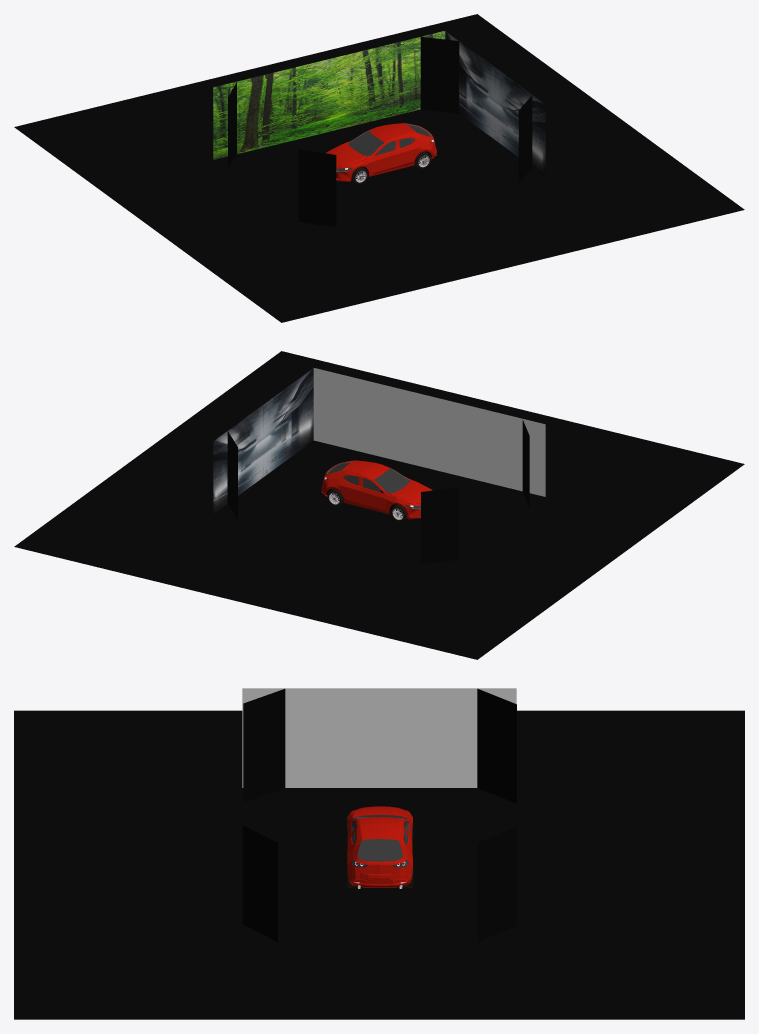
File: mazda3.glb
The picture shows the model from 3 angles, top to bottom: view 1: azimuth 30°, elevation 25°; view 2: azimuth 150°, elevation 25°; view 3: azimuth 270°, elevation 25°; orthographic projection. The views are drawn at different scales.
Visible parts, largest first — view 1: Ground, Side(R), Back, Car body, Sidepanel4, Sidepanel2, Sidepanle1, Cube, Sidepanel3; view 2: Ground, Side(L), Back, Car body, Sidepanel3, Cube, Sidepanel4, Sidepanel2; view 3: Ground, Front, Car body, Sidepanel2, Sidepanel3, Sidepanel4, Sidepanle1, Cube.
Boxes of the visible parts, x1,y1,x2,y2 form: Ground: (14,14,744,322); Side(R): (213,31,445,159); Back: (445,31,545,176); Car body: (326,123,436,181); Sidepanel4: (420,37,459,113); Sidepanel2: (298,149,336,227); Sidepanle1: (518,95,532,182); Cube: (336,125,432,175); Sidepanel3: (228,82,236,169); Ground: (14,351,744,659); Side(L): (313,368,545,496); Back: (213,368,313,513); Car body: (321,460,432,519); Sidepanel3: (421,487,459,564); Cube: (326,463,420,513); Sidepanel4: (227,431,237,519); Sidepanel2: (522,420,529,507); Ground: (14,710,744,1019); Front: (242,688,516,787); Car body: (347,806,412,887); Sidepanel2: (243,689,285,802); Sidepanel3: (477,688,516,803); Sidepanel4: (477,826,516,941); Sidepanle1: (242,825,277,941); Cube: (351,815,407,867).
Bounding box in the file's own units: 40 × 6 × 40.
11 materials, 2 textured.
